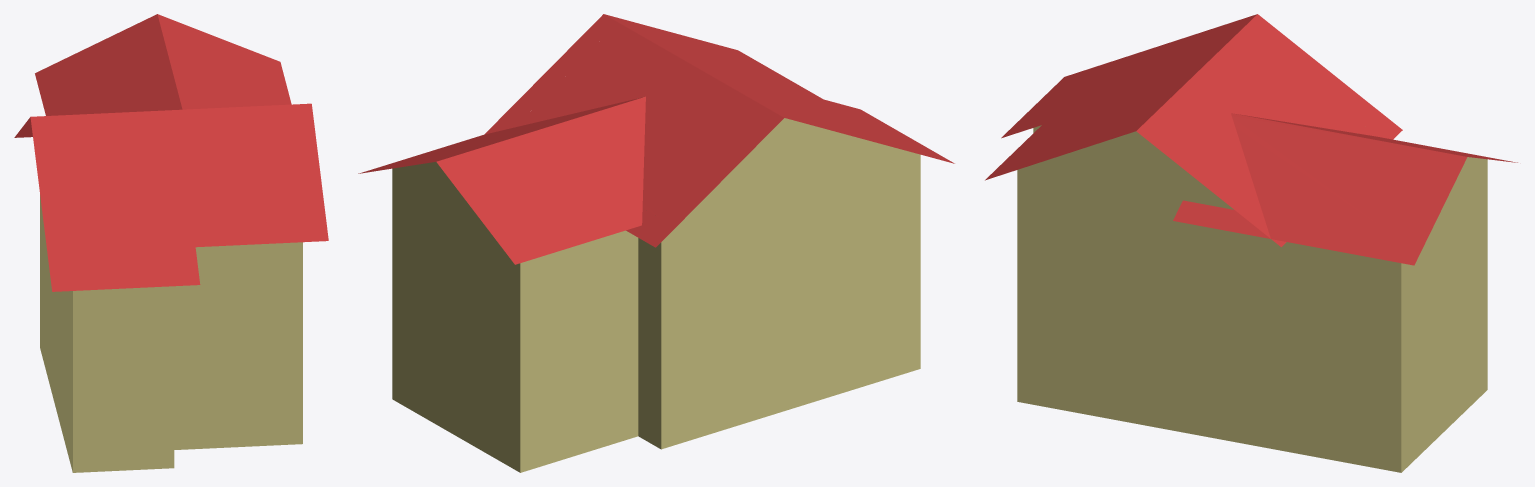
3 views of the same model, side by side, from view 1: azimuth 30°, elevation 25°; view 2: azimuth 150°, elevation 25°; view 3: azimuth 270°, elevation 25° (orthographic). The views are drawn at different scales.
Visible parts, largest first — view 1: group_9, group_7, group_3, group_8, group_4; view 2: group_9, group_5, group_7, group_3, group_4, group_8; view 3: group_5, group_9, group_7, group_3, group_8, group_4.
Part boxes in pixels (x1,y1,x2,y2): group_9: [40, 195, 302, 472]; group_7: [14, 103, 328, 291]; group_3: [35, 14, 291, 114]; group_8: [16, 105, 311, 291]; group_4: [35, 19, 279, 115]; group_9: [653, 118, 920, 449]; group_5: [392, 162, 653, 472]; group_7: [484, 14, 954, 246]; group_3: [358, 96, 645, 264]; group_4: [365, 163, 642, 264]; group_8: [488, 16, 953, 247]; group_5: [1183, 157, 1487, 472]; group_9: [1017, 125, 1233, 432]; group_7: [985, 14, 1402, 246]; group_3: [1173, 113, 1517, 265]; group_8: [1006, 16, 1402, 235]; group_4: [1356, 133, 1516, 262].
Bounding box in the file's own units: 14.52 × 16.08 × 10.07.
